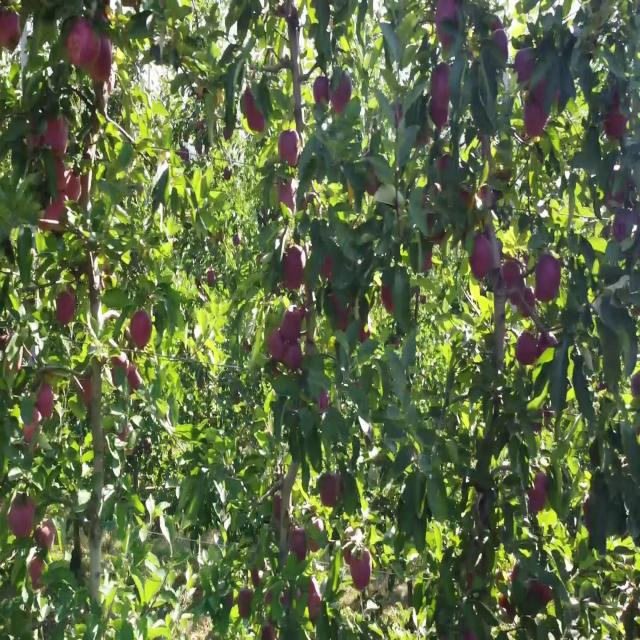apple: (68, 21, 96, 71), (536, 255, 562, 306), (472, 234, 499, 283), (8, 497, 36, 540), (88, 35, 112, 85), (436, 0, 460, 50), (44, 113, 69, 156), (348, 547, 372, 590), (524, 99, 548, 142), (608, 177, 634, 213), (40, 199, 66, 235), (284, 248, 305, 292), (500, 255, 523, 295), (244, 92, 265, 135), (0, 14, 22, 53), (432, 63, 452, 105), (320, 476, 343, 512), (528, 476, 548, 514), (56, 291, 77, 327), (308, 519, 329, 555), (36, 383, 56, 420), (536, 78, 561, 107), (132, 312, 152, 348), (48, 199, 68, 235), (432, 85, 452, 121), (516, 334, 537, 368), (604, 113, 628, 142), (516, 49, 535, 85), (332, 298, 351, 334), (280, 135, 300, 169), (612, 213, 633, 244), (492, 21, 509, 59), (72, 170, 91, 203), (28, 554, 45, 590), (36, 519, 56, 549), (284, 341, 304, 370), (4, 348, 24, 377), (520, 284, 536, 320), (292, 526, 308, 562), (28, 120, 45, 153), (280, 177, 296, 212), (308, 583, 323, 620), (268, 334, 287, 363), (428, 213, 444, 247), (284, 312, 302, 341), (432, 99, 450, 128), (24, 412, 40, 443), (80, 376, 95, 407), (112, 355, 128, 384), (336, 78, 352, 107), (332, 85, 348, 114), (468, 191, 490, 212), (316, 78, 331, 107), (532, 583, 552, 604), (540, 334, 558, 357), (536, 78, 550, 107), (80, 170, 91, 206), (240, 590, 253, 619), (68, 170, 80, 201), (384, 284, 396, 315), (368, 170, 380, 199), (324, 255, 335, 284), (56, 163, 67, 192), (340, 305, 351, 334), (128, 369, 141, 393), (584, 497, 592, 532), (632, 369, 640, 404), (360, 319, 371, 343), (320, 391, 330, 414), (440, 156, 451, 174), (424, 248, 432, 272), (276, 497, 283, 523), (264, 625, 276, 639)
